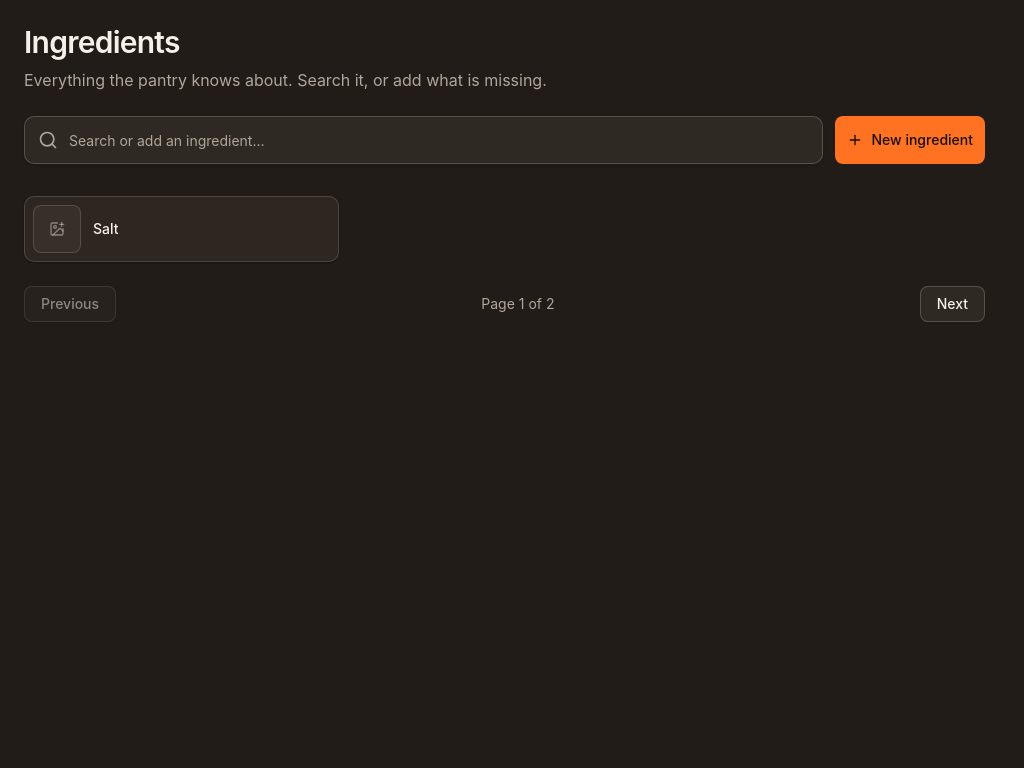
Test: IngredientListPage › steps back to a populated page when the last row of a page is deleted
Click the button "Next".
click(952, 304)  # box [920, 286, 985, 322]
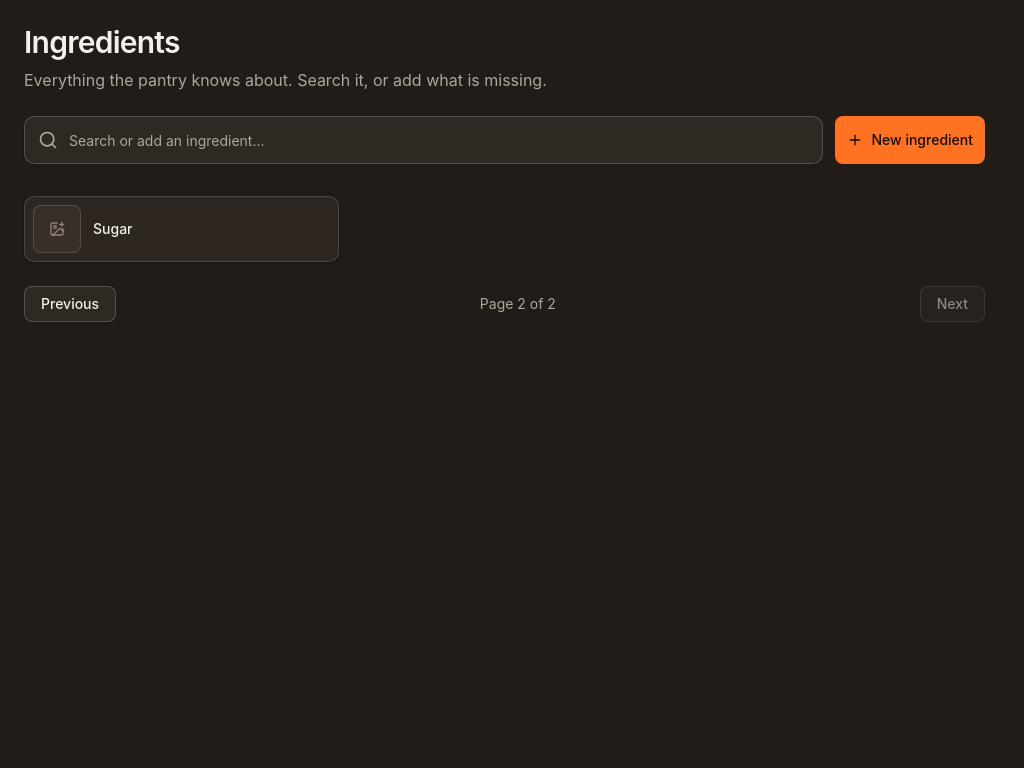
Click the button "sugar".
click(57, 229)  # box [24, 196, 339, 262]
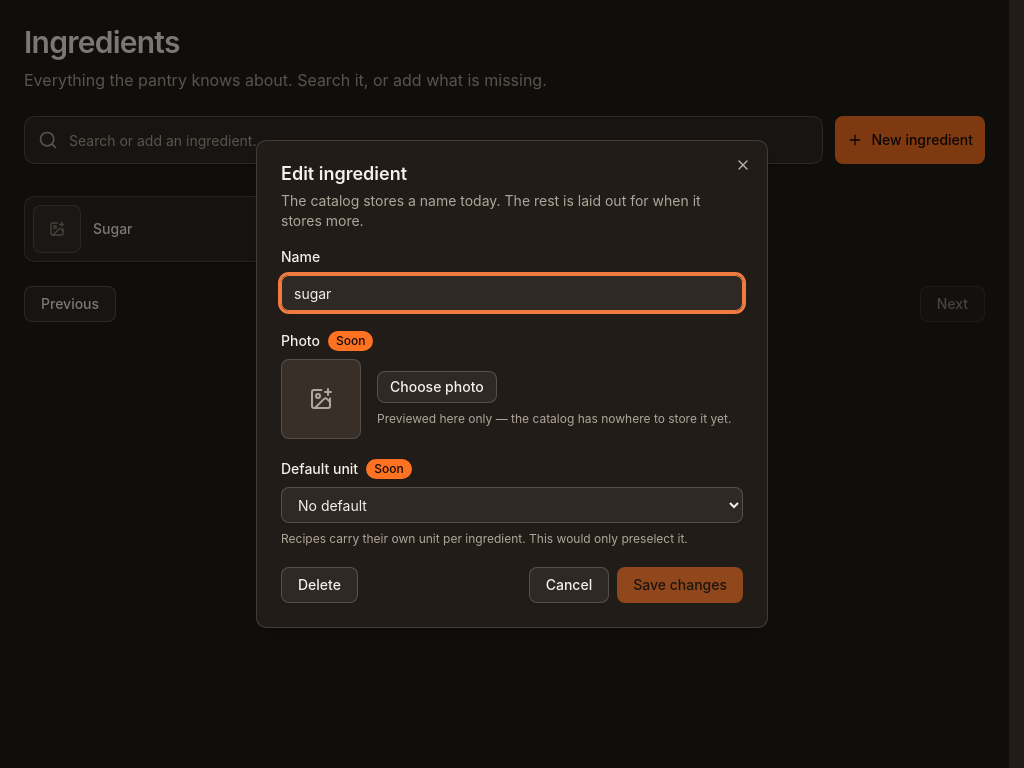
Check: the dialog is shown, box [256, 140, 768, 628]
Click the button "Delete".
click(319, 585)  # box [281, 567, 358, 603]
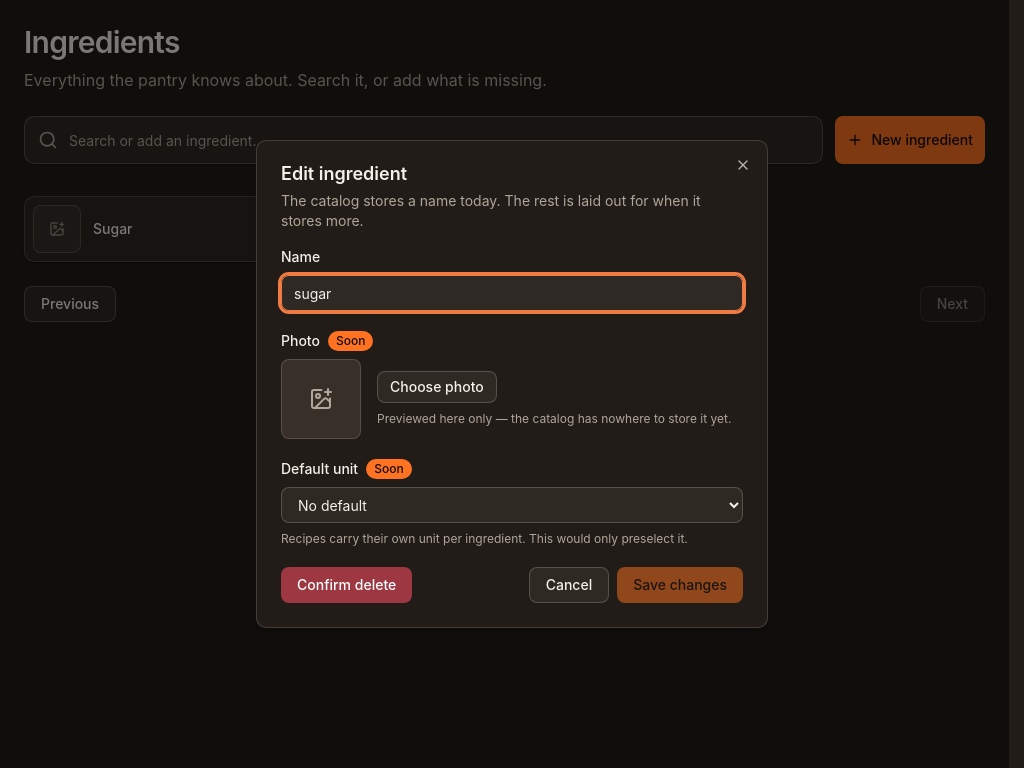
Click the button "Confirm delete".
click(347, 585)  # box [281, 567, 412, 603]
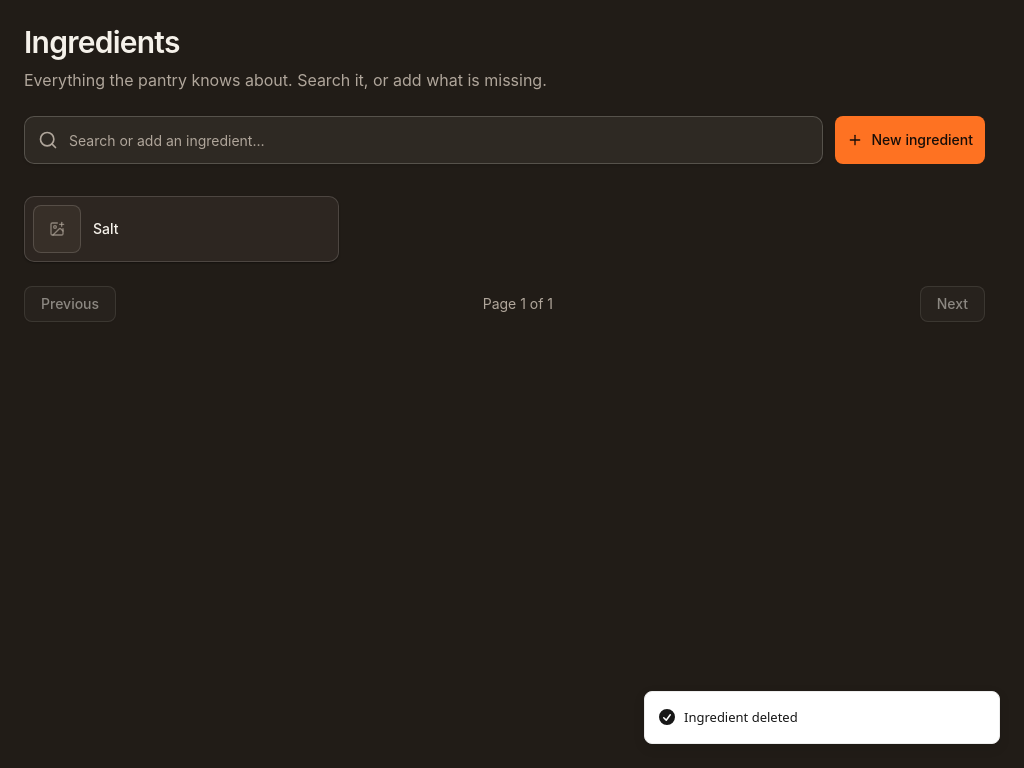
Check: the text "salt" is shown, box [93, 220, 118, 237]
